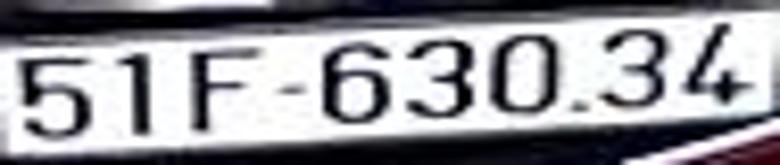-: (275, 79, 311, 101)
.: (566, 95, 593, 124)
0: (482, 32, 566, 121)
1: (117, 50, 159, 138)
3: (406, 38, 472, 126), (604, 26, 667, 109)
4: (677, 20, 755, 114)
5: (14, 54, 108, 149)
6: (318, 38, 393, 130)
F: (186, 42, 265, 138)
